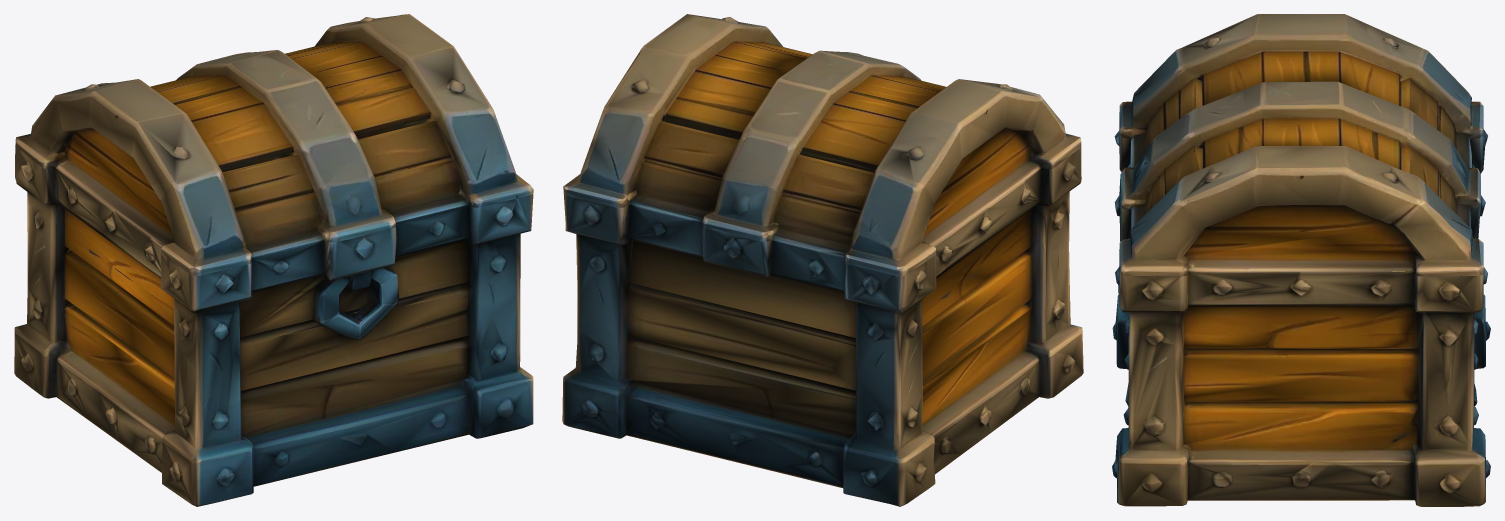
File: chest_anim.opt.glb
The picture shows the model from 3 angles, left to right: view 1: azimuth 30°, elevation 25°; view 2: azimuth 150°, elevation 25°; view 3: azimuth 270°, elevation 25°; orthographic projection.
Visible parts, largest first — view 1: ChestBody, ChestLid; view 2: ChestBody, ChestLid; view 3: ChestBody, ChestLid.
Part boxes in pixels (left/top/right/bottom): ChestBody: left=14, top=147, right=533, bottom=506; ChestLid: left=15, top=14, right=533, bottom=275; ChestBody: left=562, top=148, right=1083, bottom=506; ChestLid: left=563, top=14, right=1081, bottom=276; ChestBody: left=1112, top=128, right=1490, bottom=506; ChestLid: left=1119, top=14, right=1483, bottom=276.
Bounding box in the file's own units: 0.7542 × 0.6869 × 0.7045.
Materials: 5 (1 with a texture image).
